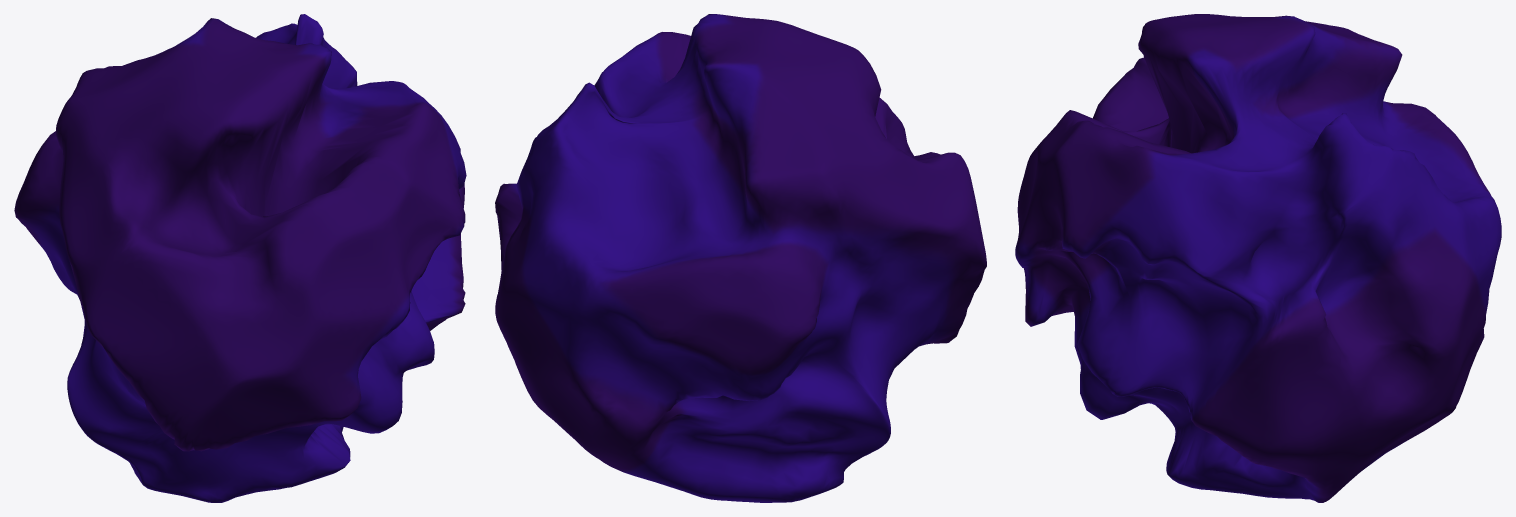
Rendered from planet_02_obsidian.gltf.
3 renders of one model, left to right at view 1: azimuth 30°, elevation 25°; view 2: azimuth 150°, elevation 25°; view 3: azimuth 270°, elevation 25°, orthographic. The views are drawn at different scales.
Visible parts, largest first — view 1: Retopo_Sphere; view 2: Retopo_Sphere; view 3: Retopo_Sphere.
Boxes of the visible parts, left/top/right/bottom form: Retopo_Sphere: left=14, top=14, right=466, bottom=502; Retopo_Sphere: left=495, top=14, right=986, bottom=502; Retopo_Sphere: left=1015, top=14, right=1501, bottom=502.
Bounding box in the file's own units: 7.53 × 7.39 × 7.24.
Materials: 1 (1 with a texture image).
